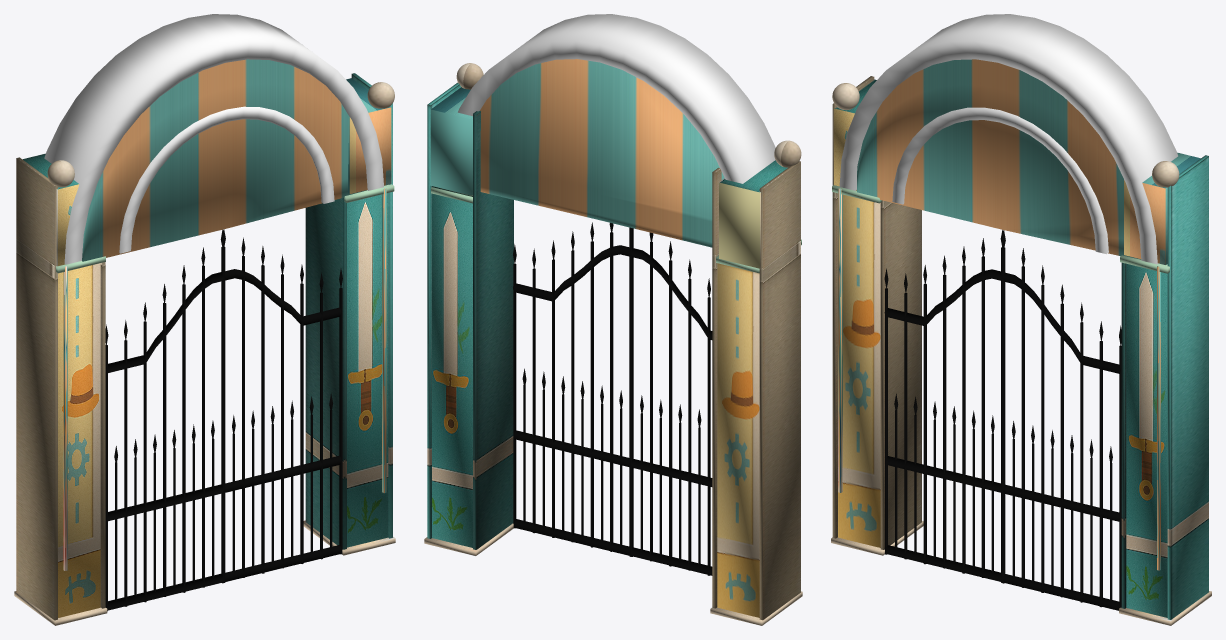
The model's file is Puerta.obj.
3 views of the same model, side by side, from view 1: azimuth 30°, elevation 25°; view 2: azimuth 150°, elevation 25°; view 3: azimuth 330°, elevation 25° (orthographic).
Visible parts, largest first — view 1: Arc003, ARCO1, Box003, Box008, Box007, reja, reja001, Box006, ARCO002, Box015, Box004, Box005 (+7 smaller); view 2: Arc003, Box003, ARCO1, Box008, Box006, Box007, reja001, reja, Box014, Box015, Box004, Box005 (+4 smaller); view 3: Arc003, ARCO1, Box005, Box008, reja001, Box007, reja, Box004, ARCO002, Box015, Box003, Box006 (+7 smaller).
Boxes of the visible parts, x1,y1,x2,y2 form: Arc003: [82, 59, 366, 261]; ARCO1: [44, 14, 383, 264]; Box003: [16, 157, 57, 620]; Box008: [58, 263, 100, 617]; Box007: [347, 193, 388, 547]; reja: [105, 229, 224, 611]; reja001: [223, 229, 342, 582]; Box006: [305, 197, 346, 549]; ARCO002: [119, 106, 334, 253]; Box015: [346, 78, 391, 193]; Box004: [100, 262, 105, 608]; Box005: [351, 73, 392, 538]; Arc003: [480, 59, 724, 247]; Box003: [759, 161, 800, 620]; ARCO1: [458, 14, 775, 183]; Box008: [717, 263, 759, 617]; Box006: [473, 111, 513, 549]; Box007: [432, 186, 472, 547]; reja001: [513, 222, 631, 556]; reja: [630, 228, 712, 575]; Box014: [719, 160, 787, 268]; Box015: [430, 87, 472, 195]; Box004: [712, 167, 721, 608]; Box005: [427, 82, 460, 538]; Arc003: [857, 59, 1140, 259]; ARCO1: [839, 14, 1177, 264]; Box005: [1167, 155, 1208, 619]; Box008: [838, 193, 880, 547]; reja001: [1002, 230, 1121, 610]; Box007: [1126, 263, 1167, 617]; reja: [884, 230, 1003, 582]; Box004: [880, 200, 921, 549]; ARCO002: [892, 107, 1108, 254]; Box015: [1124, 152, 1200, 264]; Box003: [832, 76, 874, 538]; Box006: [1121, 262, 1126, 608].
Size of the model in its own units: 20.16 by 30.3 by 4.4.
Materials: 5 (4 with a texture image).
